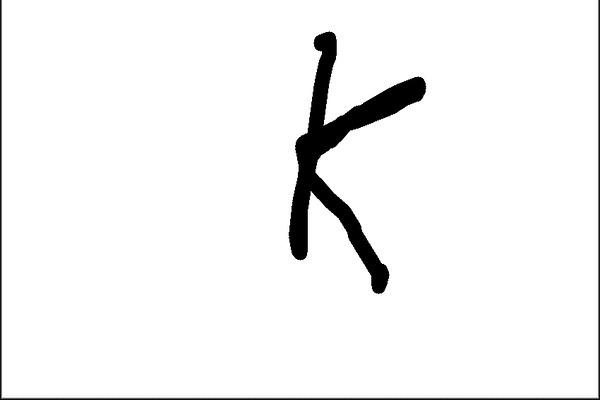K: (281, 24, 430, 301)
